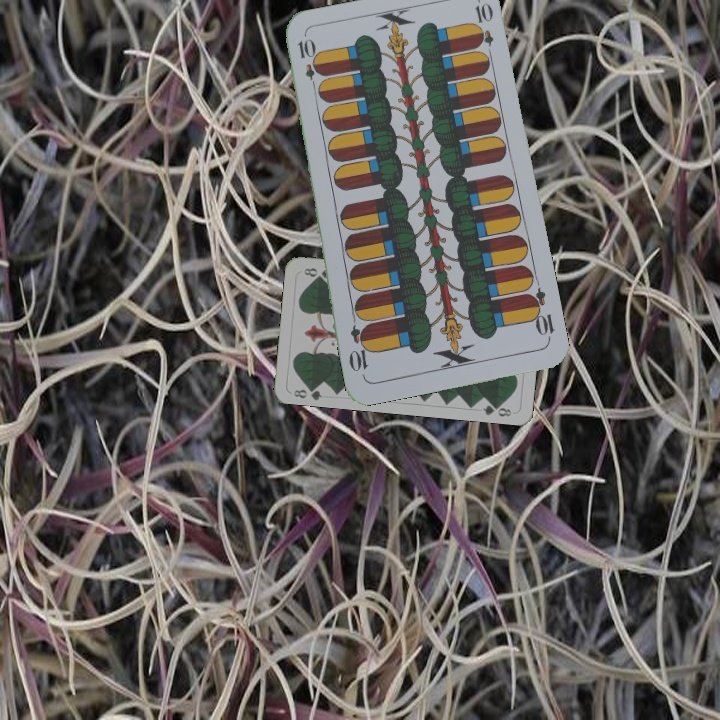E10: (523, 285, 557, 343), (294, 35, 321, 94)
G8: (290, 381, 325, 402)
